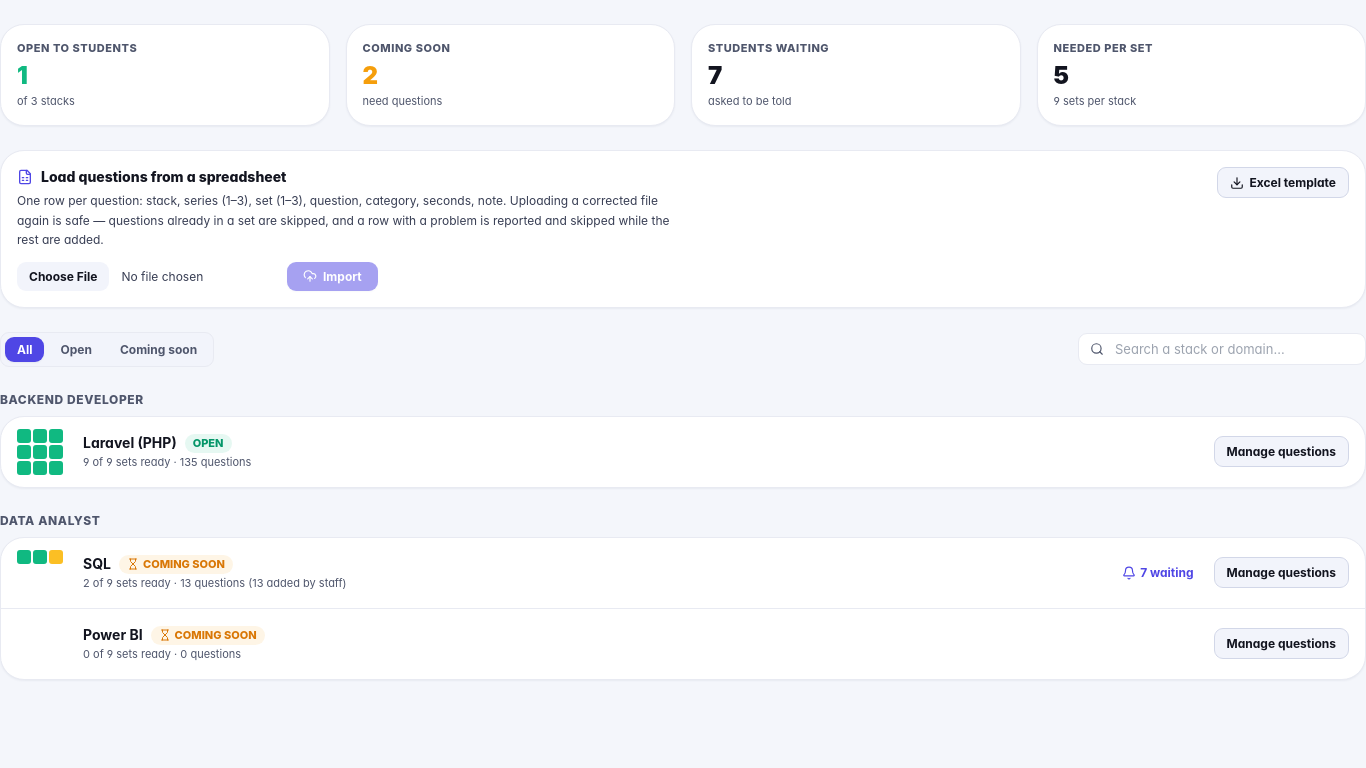
filling a stack › adds a question to a set and shows the stack as it now stands
Expected: the text "Open to students" is shown, [17,41,137,55]
Click the button with aria-label "manage sql questions" at (1281, 572), box [1214,557,1349,588]
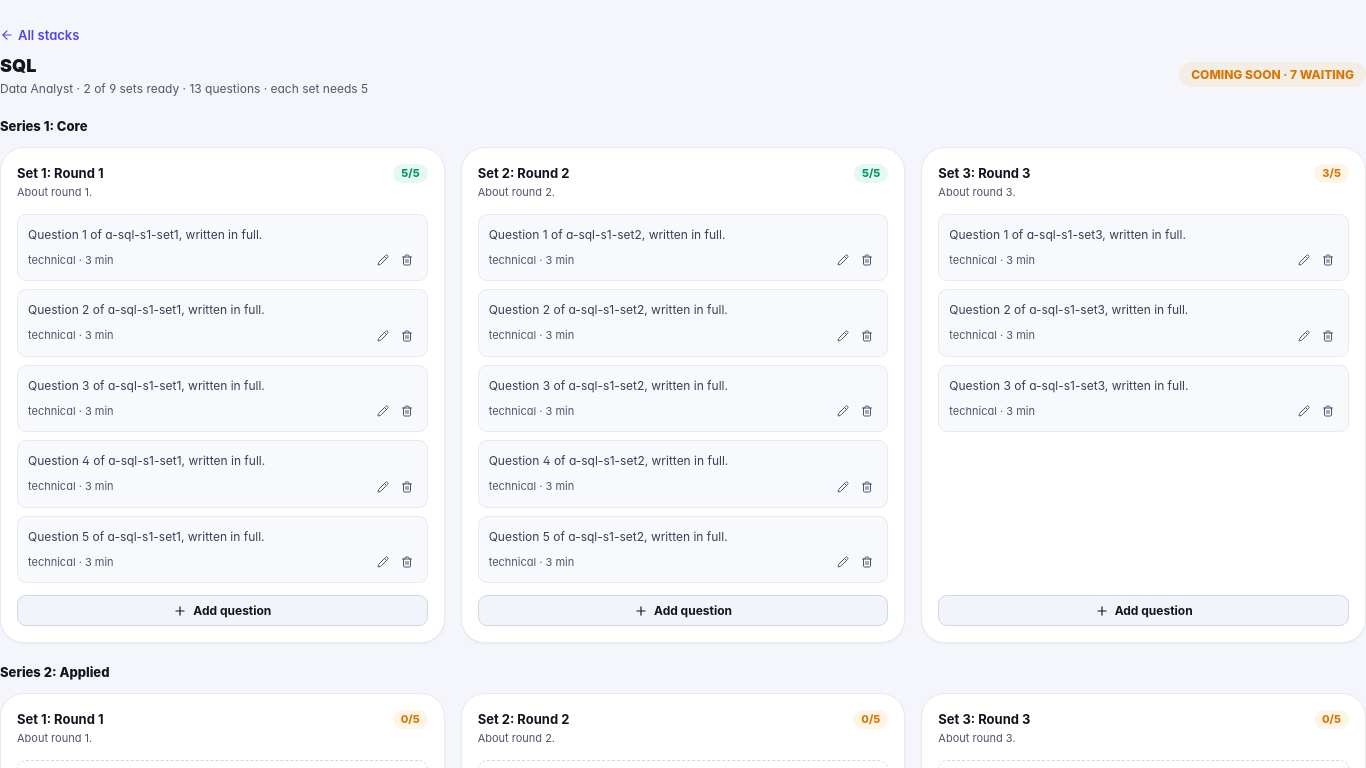
Result: the text "each set needs 5" is shown at [0,80,368,97]
Click the 3rd button "Add question" at (1144, 611), box [938,595,1349,626]
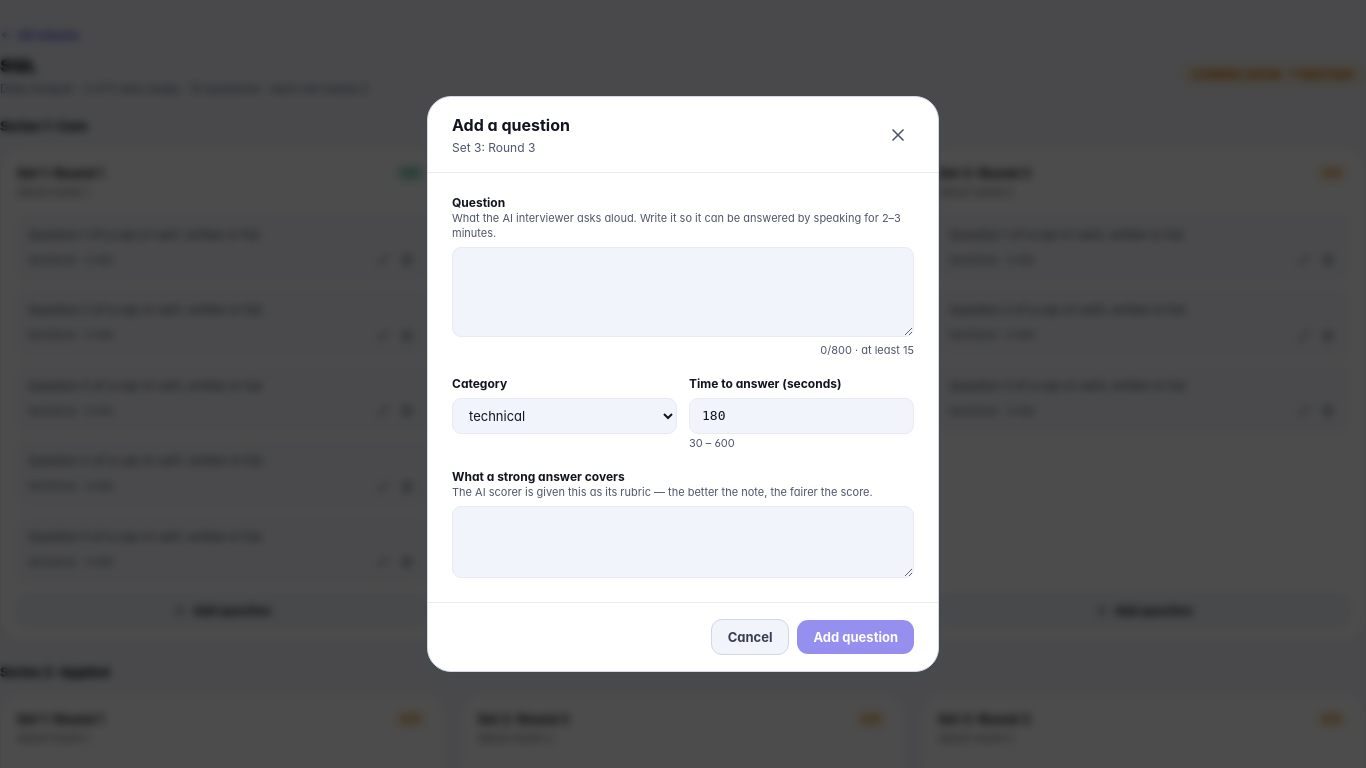
Result: the button "Add question" is disabled at [798,620,914,654]
Type "Explain a window function and when you would use one." into the text box labelled "Question" at (683, 292), box [452,247,914,337]
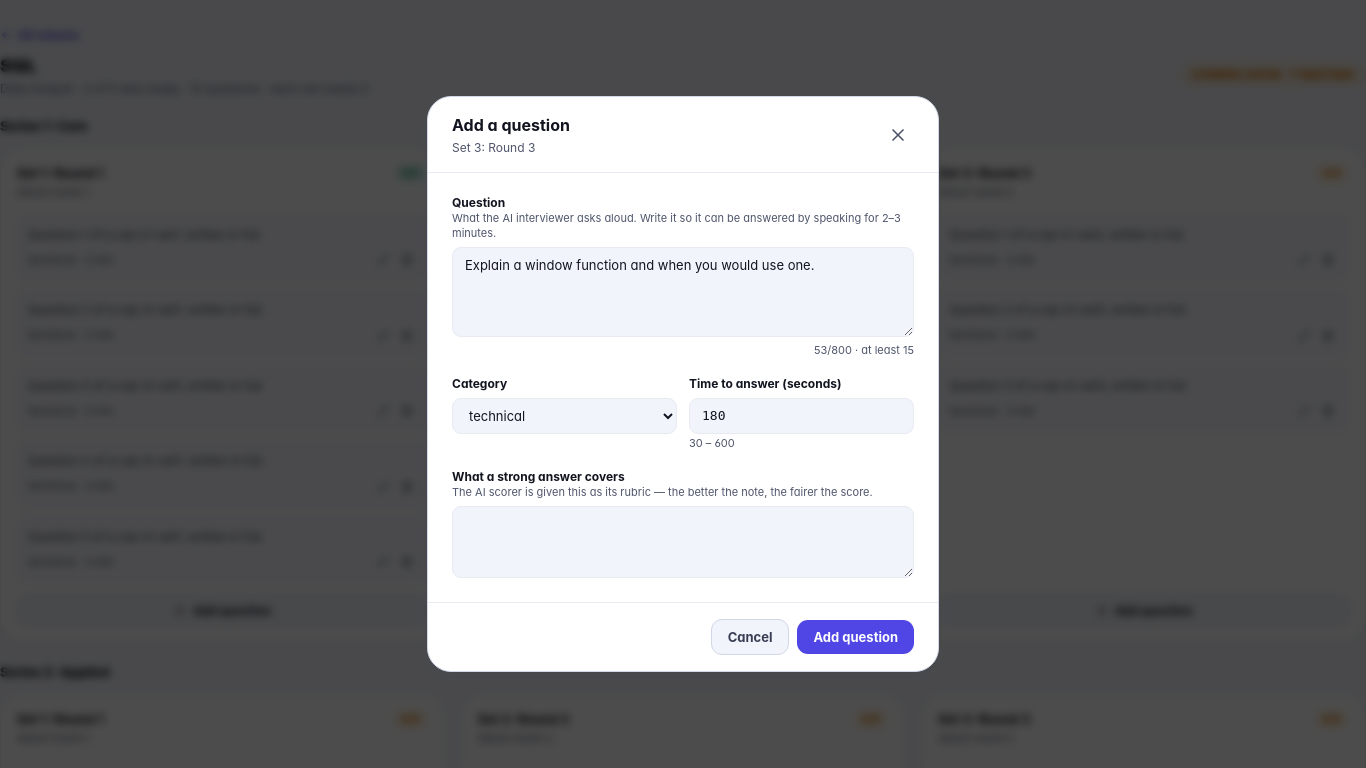
Type "PARTITION BY and ORDER BY; ranking and running totals." into the text box labelled "What a strong answer covers" at (683, 542), box [452,506,914,578]
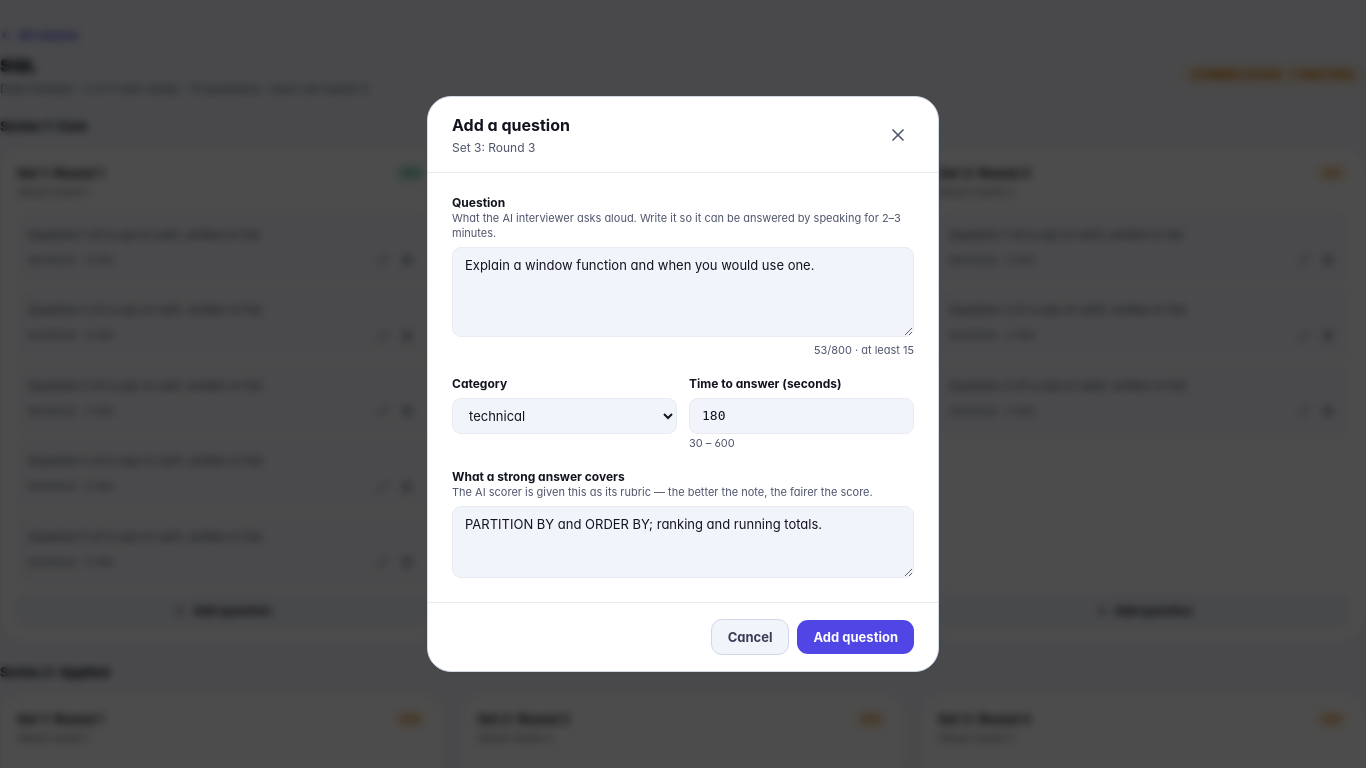
Result: the button "Add question" is enabled
Click the button "Add question" at (856, 637), box [798,620,914,654]
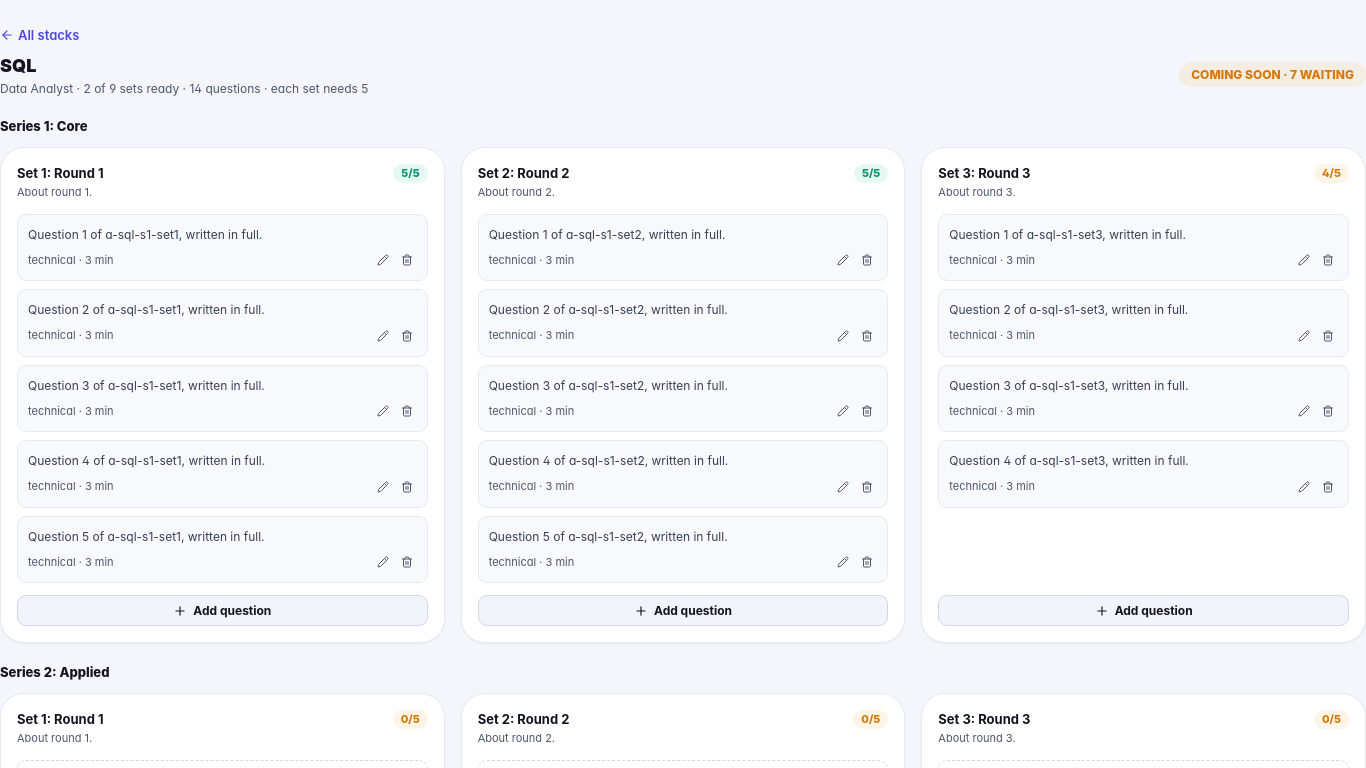
Result: the dialog is gone
Result: the text "4/5" is shown at [1314,164,1349,183]
